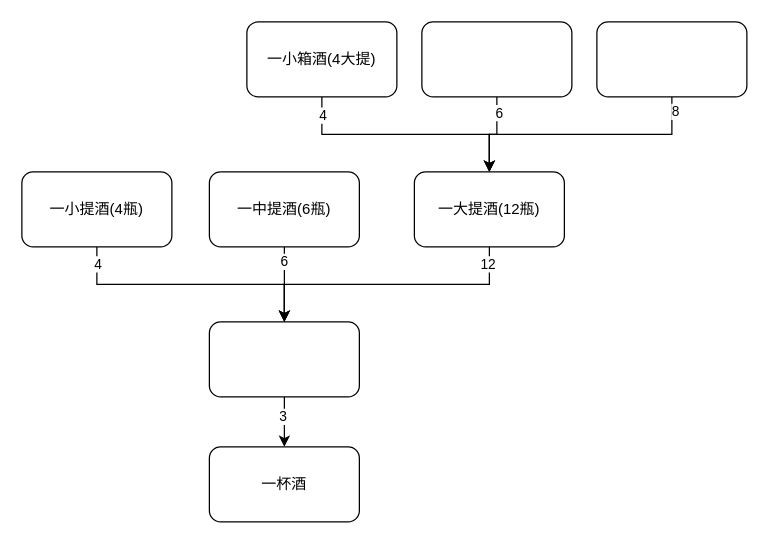
This 769x544 diagram has some shape labels left out. The centre of each missing label's shape, as x and y in pixels:
一中箱酒(6大提): [496,59]
一大箱酒(8大提): [671,59]
一瓶酒: [283,359]
